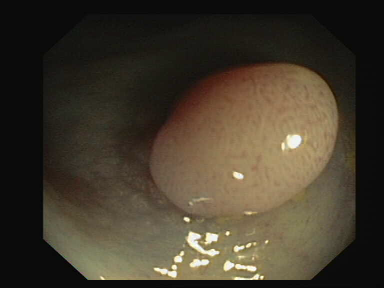polyp: (122, 52, 344, 237)
